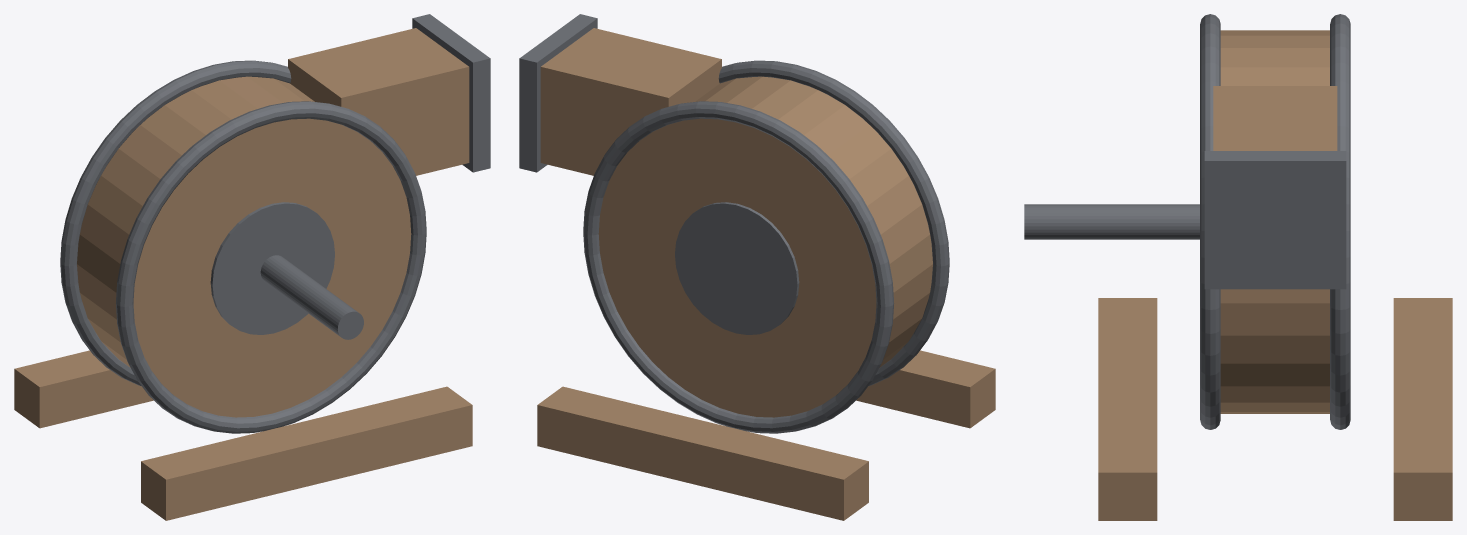
Rendered from mine_ventilator.glb.
The picture shows the model from 3 angles, left to right: view 1: azimuth 30°, elevation 25°; view 2: azimuth 150°, elevation 25°; view 3: azimuth 270°, elevation 25°; orthographic projection. The views are drawn at different scales.
Visible parts, largest first — view 1: Cylinder, Cube, Torus, Cube.010, Cylinder.001, Torus.001, Cube.001, Cube.011, Cylinder.002; view 2: Cylinder, Cube.001, Torus.001, Cube.010, Cylinder.001, Torus, Cube, Cube.011; view 3: Cylinder, Cube.011, Cube, Cube.001, Cube.010, Cylinder.002, Torus, Torus.001.
Boxes of the visible parts, box(x1,y1,x2,y2) form: Cylinder: box(77, 76, 411, 417); Cube: box(141, 386, 472, 520); Torus: box(115, 101, 426, 433); Cube.010: box(288, 28, 469, 175); Cylinder.001: box(210, 202, 334, 334); Torus.001: box(60, 60, 291, 386); Cube.001: box(14, 350, 153, 428); Cube.011: box(412, 14, 490, 172); Cylinder.002: box(260, 255, 363, 339); Cylinder: box(598, 76, 932, 417); Cube.001: box(537, 386, 868, 520); Torus.001: box(583, 101, 894, 433); Cube.010: box(540, 28, 721, 175); Cylinder.001: box(675, 202, 799, 334); Torus: box(718, 60, 949, 386); Cube: box(856, 350, 995, 428); Cube.011: box(519, 14, 597, 172); Cylinder: box(1220, 30, 1329, 413); Cube.011: box(1204, 151, 1346, 289); Cube: box(1098, 298, 1157, 520); Cube.001: box(1393, 298, 1452, 520); Cube.010: box(1213, 86, 1337, 150); Cylinder.002: box(1024, 204, 1199, 239); Torus: box(1200, 14, 1220, 429); Torus.001: box(1330, 14, 1350, 429).
Size of the model in its own units: 1.7 by 1.5 by 1.45.
